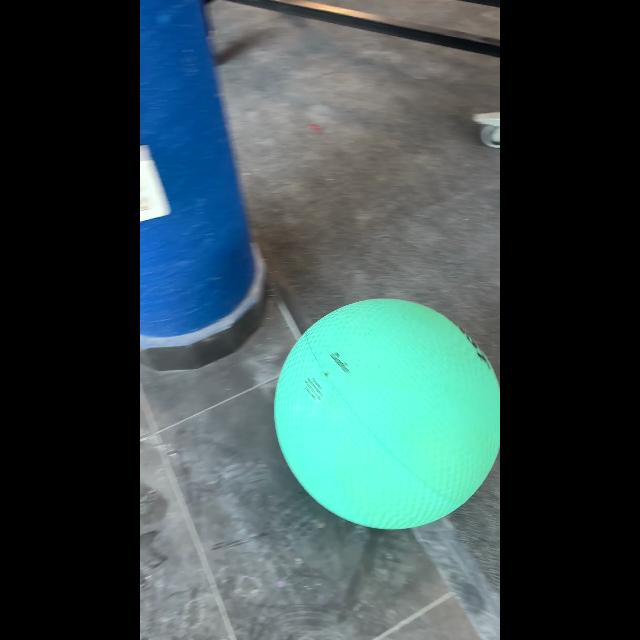ALGAE: (273, 297, 499, 531)
